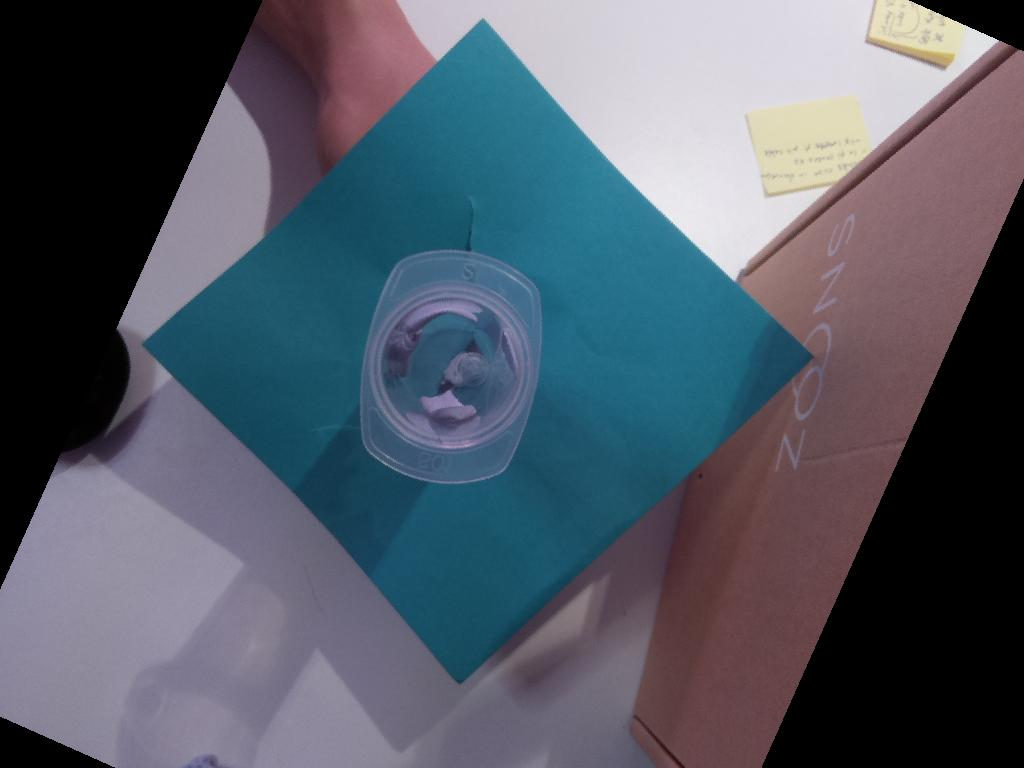dirty: (360, 249, 543, 485)
